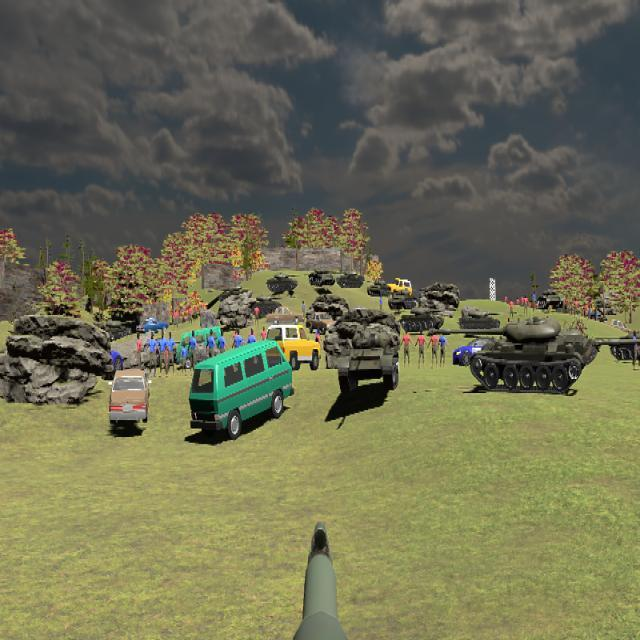Tank: (437, 317, 595, 394), (339, 326, 400, 396), (396, 306, 453, 334), (395, 306, 453, 333), (596, 331, 640, 362), (458, 306, 502, 333), (600, 332, 640, 361), (265, 271, 300, 293), (308, 268, 338, 287), (335, 270, 365, 288)
car: (189, 342, 294, 441), (263, 324, 320, 371), (109, 368, 150, 428), (306, 310, 336, 336), (265, 305, 302, 326), (137, 316, 168, 337), (388, 278, 413, 299)
